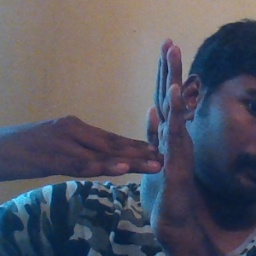Z: (71, 32, 200, 228)
